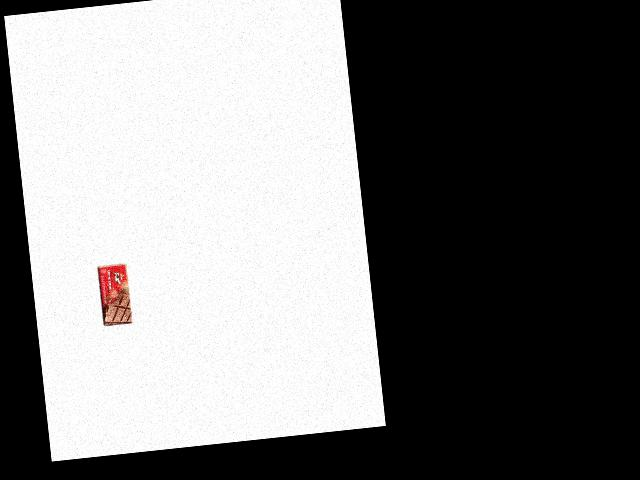chocolate: (96, 262, 134, 327)
